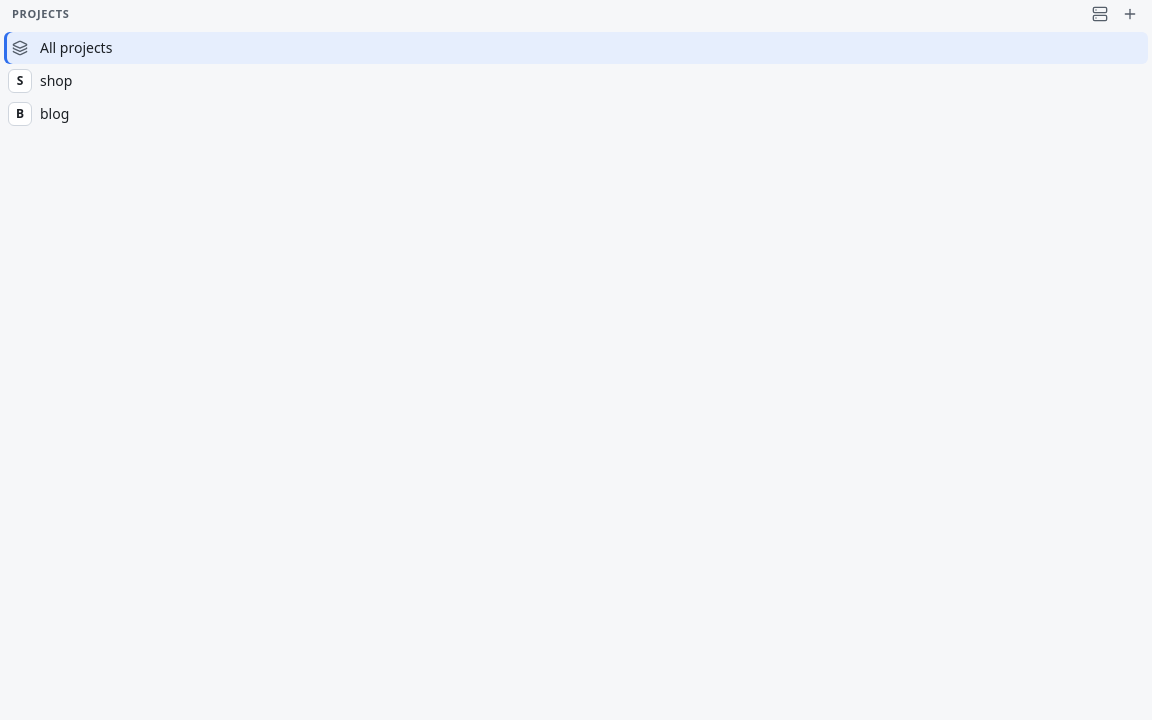
Test case: ProjectsPanel › adds a project on the local server
Click the button named "Add project" at (1130, 14), box [1116,0,1144,28]
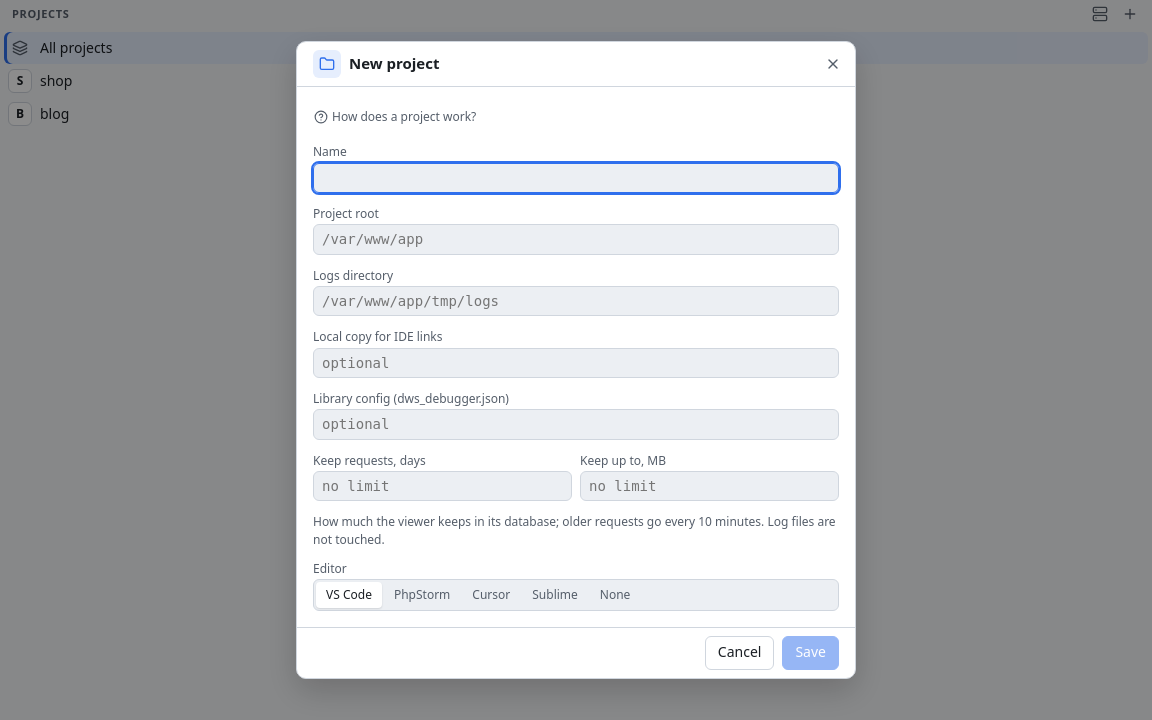
Type "api" into the field labelled "Name" at (576, 178), box [313,162,839,193]
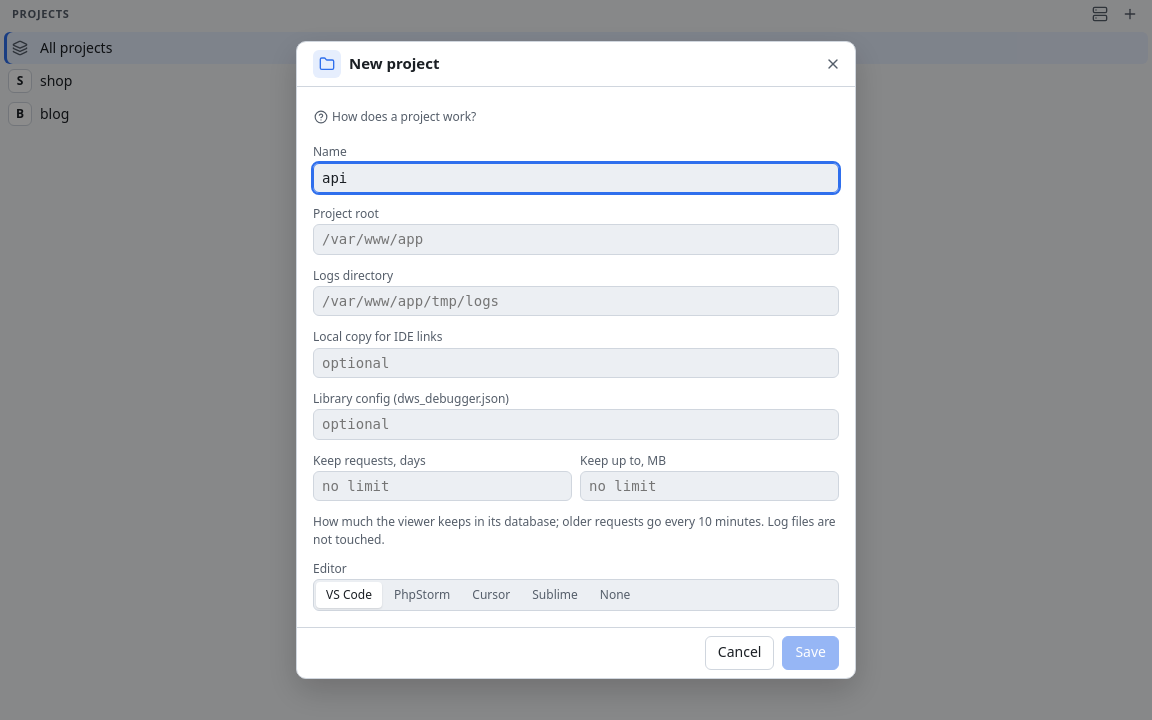
Type "/srv/api" into the field labelled "Project root" at (576, 239), box [313,224,839,254]
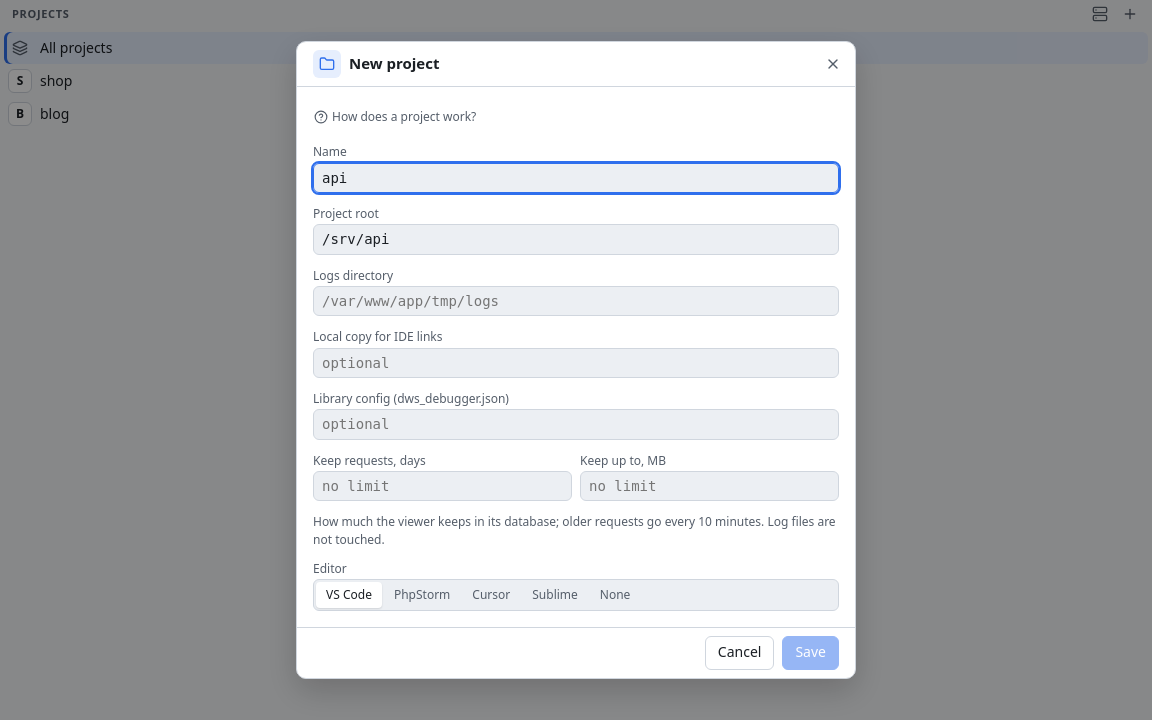
Type "/srv/api/logs" into the field labelled "Logs directory" at (576, 301), box [313,286,839,316]
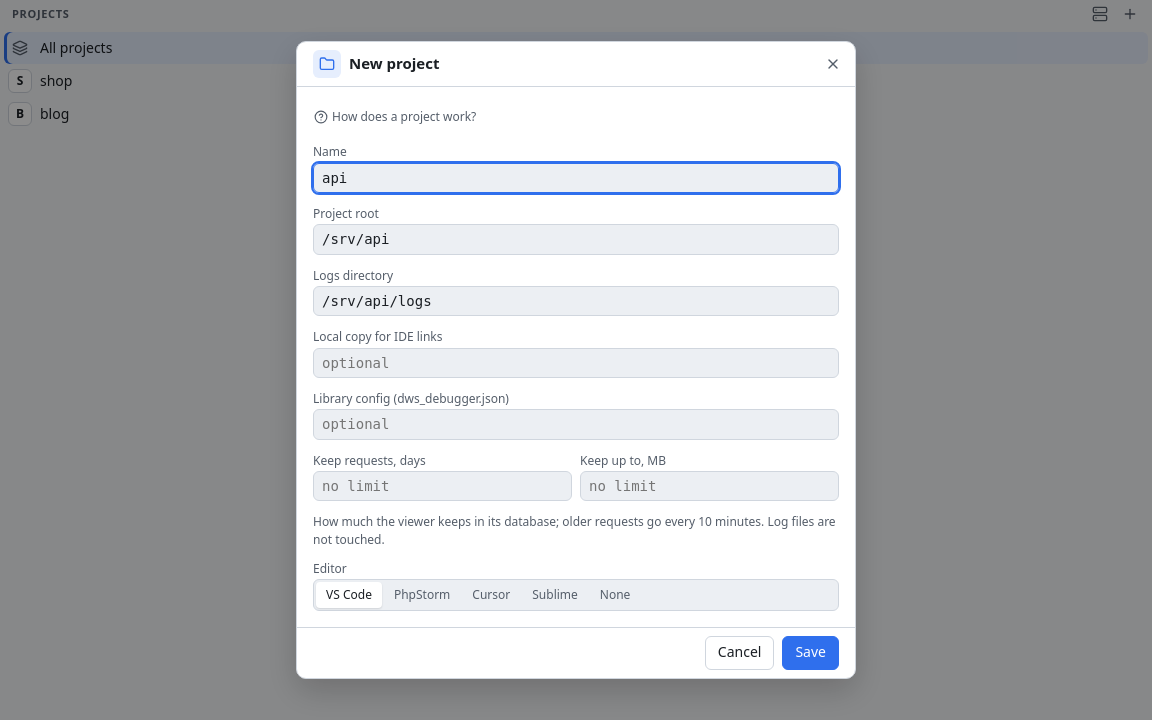
Click the button "Save" at (811, 653), box [782,636,839,670]
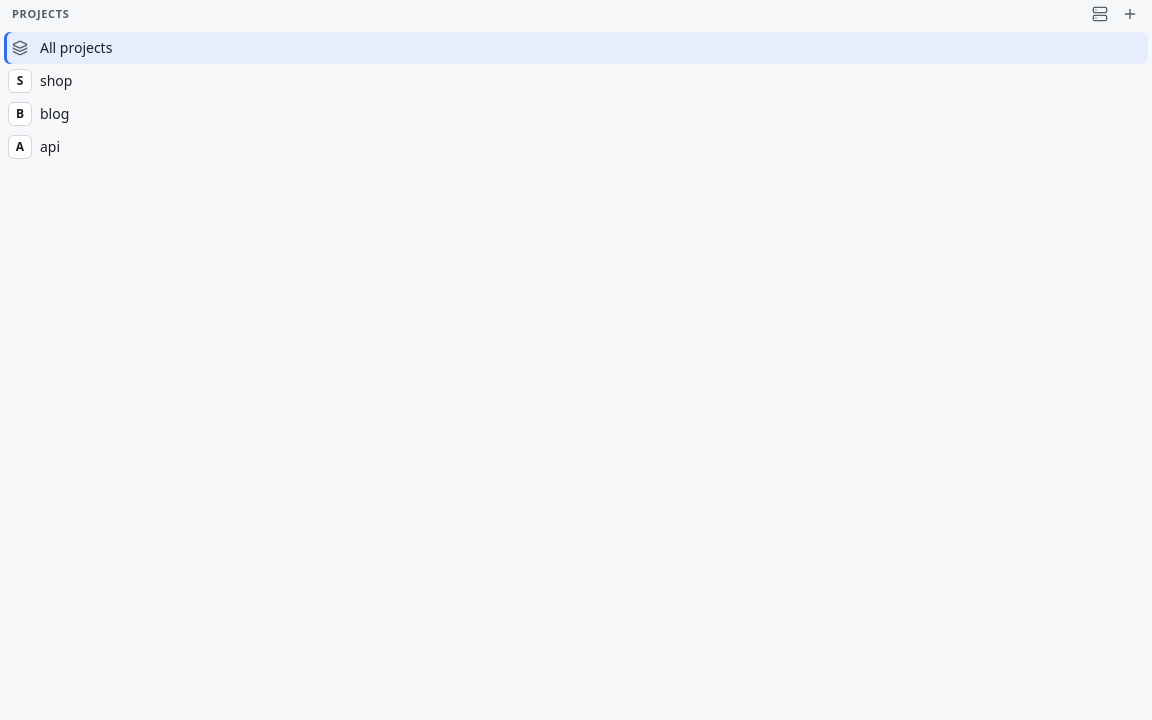
Check: the button "A api" is shown, box [4,131,1148,163]
Check: the dialog is gone
